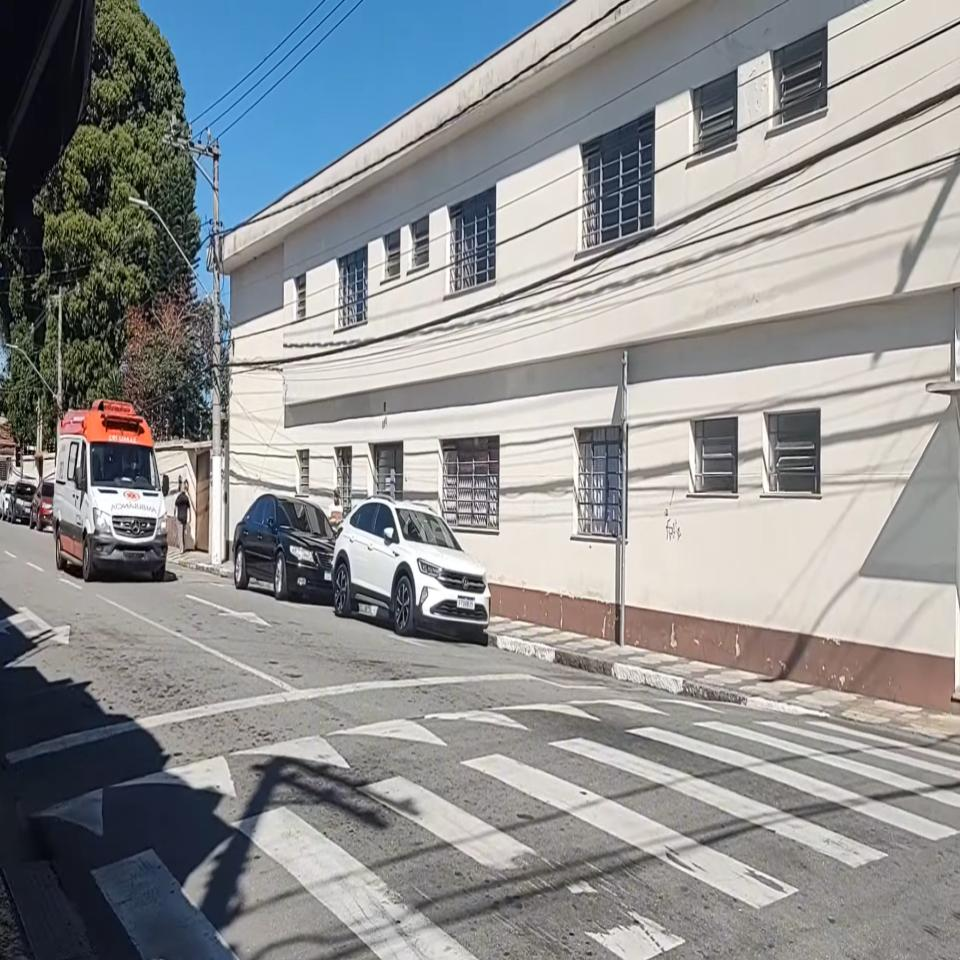bombeiro: (53, 398, 170, 583)
